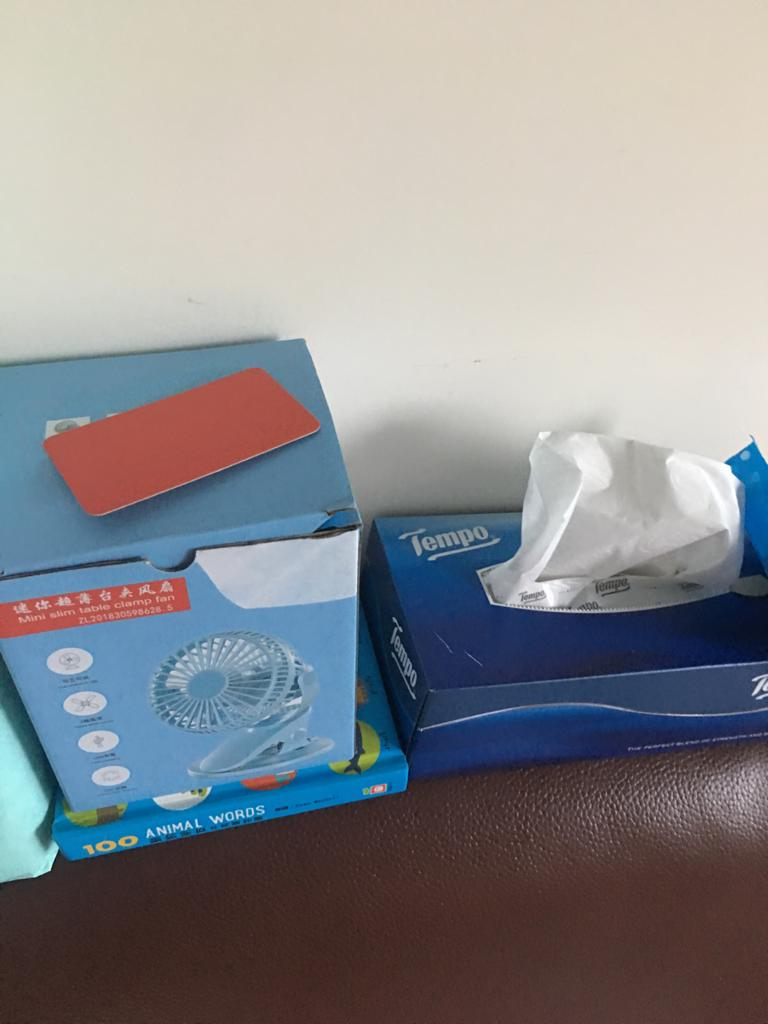red: (32, 353, 331, 544)
